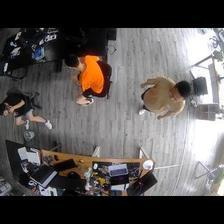normal: (138, 71, 192, 123), (1, 89, 58, 137), (65, 52, 111, 109)
